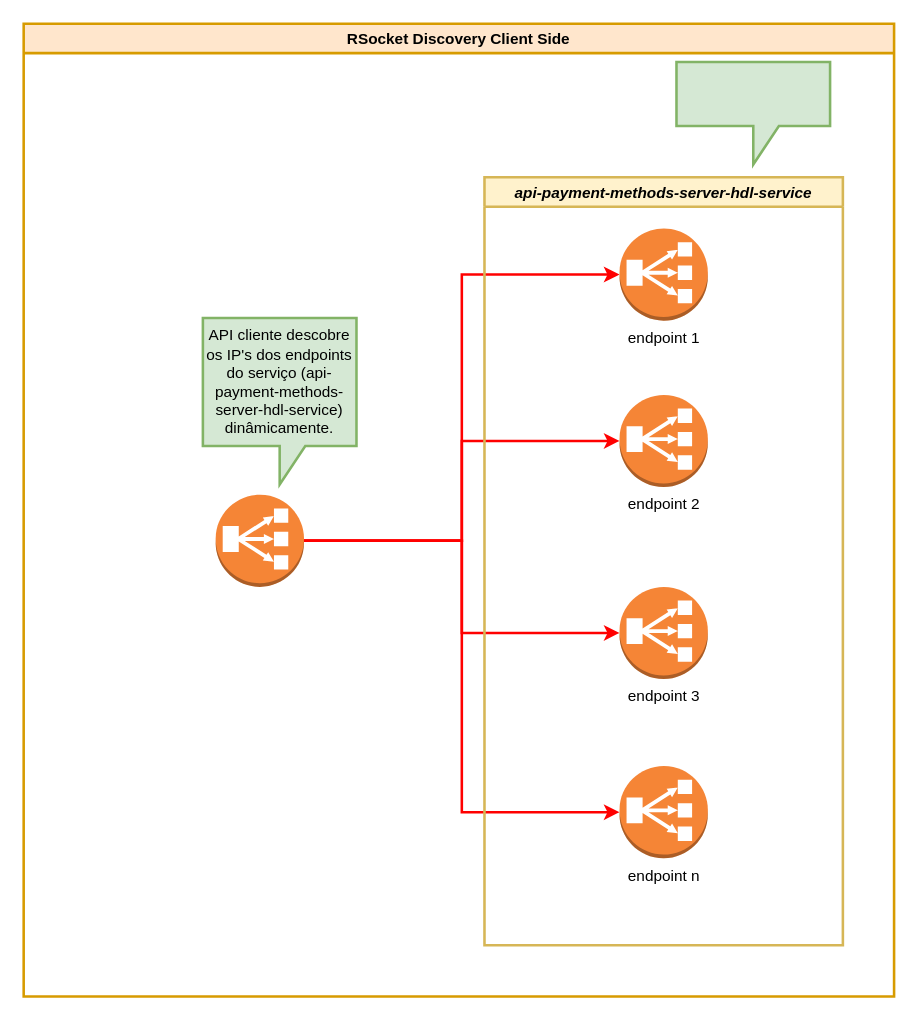
This 916x1019 diagram has some shape labels left out. The centre of each missing label's shape, as x and y in pixels:
api-payment-method-client: the point at 259,540
Os endpoints e os IP's são atribuídos dinâmicamente.: the point at 753,112
